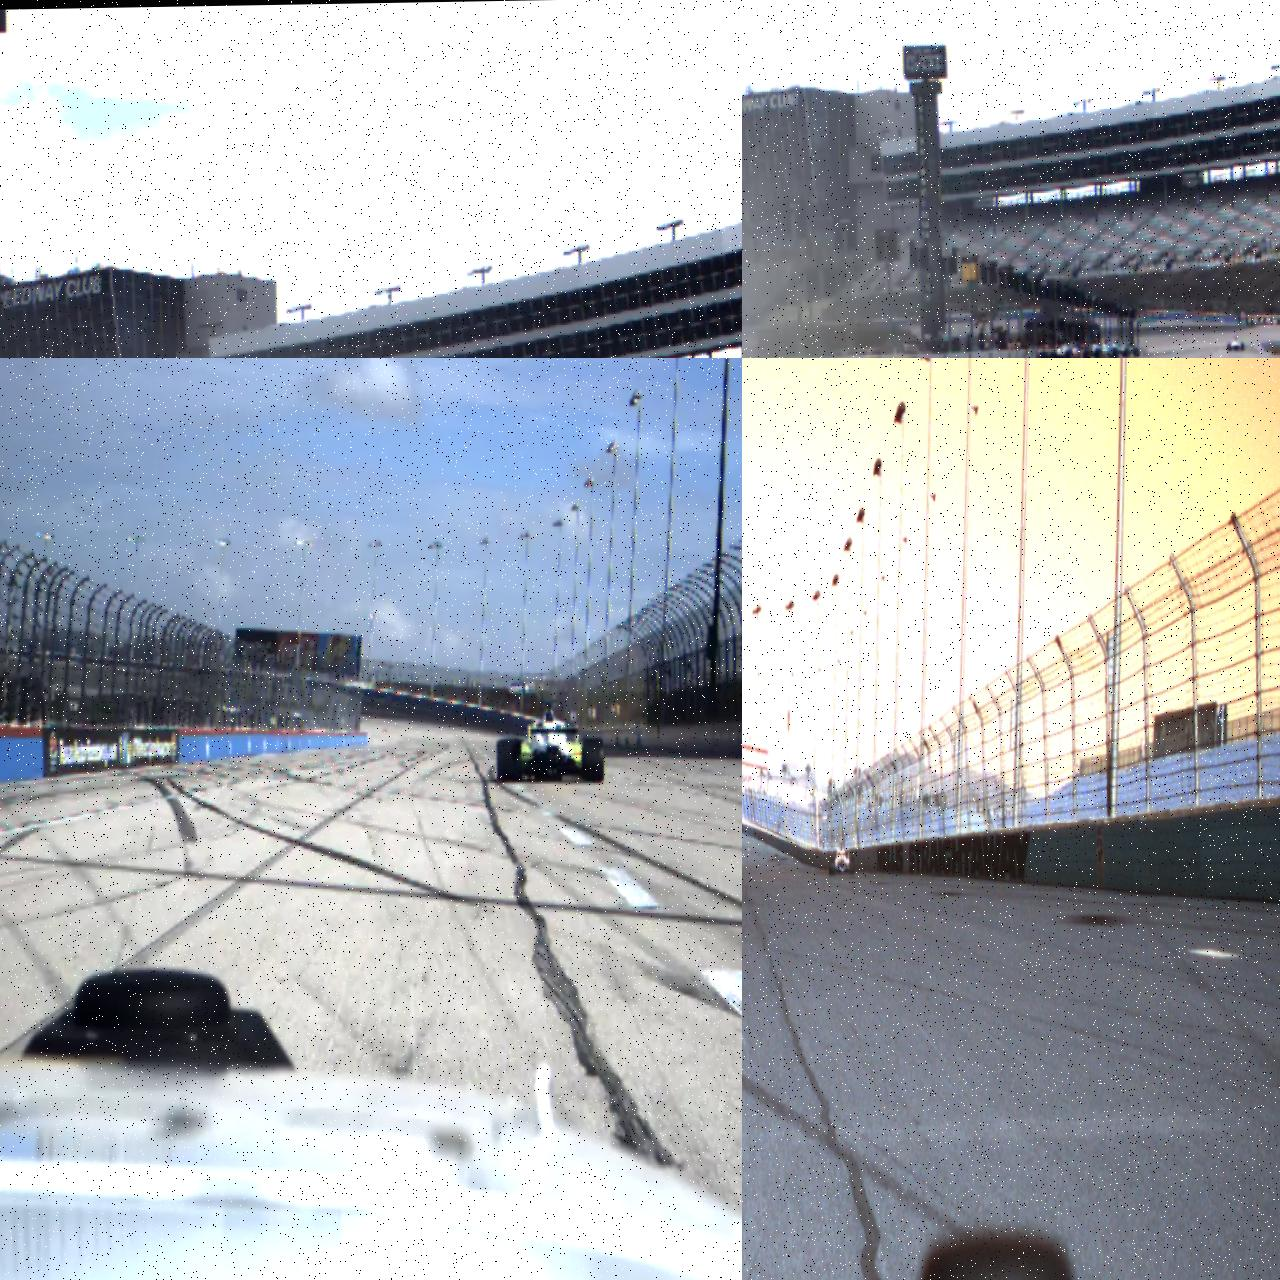AV: (496, 700, 604, 783), (829, 843, 856, 875), (1228, 336, 1244, 352)
Wheel: (496, 738, 523, 782), (582, 737, 604, 782), (849, 856, 855, 874), (829, 857, 835, 875), (1064, 348, 1073, 358), (1122, 348, 1130, 358), (1094, 347, 1101, 358), (1083, 348, 1090, 358), (1112, 348, 1118, 358), (1133, 348, 1139, 358), (1040, 352, 1048, 358), (1227, 342, 1231, 352), (1242, 342, 1244, 350)
